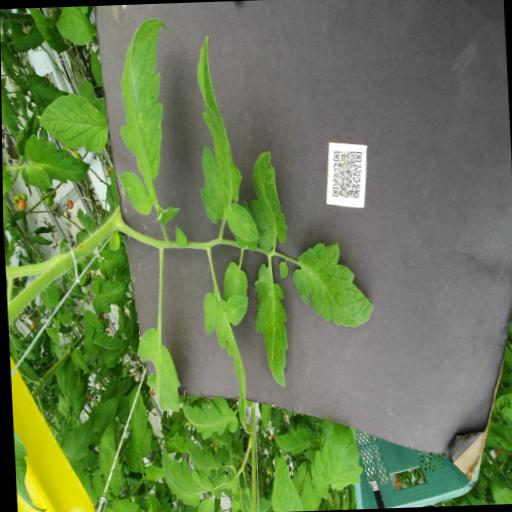Healthy: (190, 31, 258, 245), (108, 17, 176, 216), (199, 290, 254, 442), (288, 240, 372, 330), (249, 262, 288, 388), (133, 324, 180, 418), (245, 148, 286, 252), (309, 422, 361, 492), (178, 392, 237, 440), (119, 382, 150, 470), (158, 442, 198, 510), (265, 447, 301, 512), (55, 410, 95, 462), (89, 276, 128, 314), (271, 418, 310, 456), (86, 395, 118, 440), (80, 324, 123, 354), (95, 246, 124, 275), (108, 494, 138, 512), (68, 349, 89, 374), (89, 47, 102, 87), (79, 310, 102, 330), (139, 464, 163, 482)
